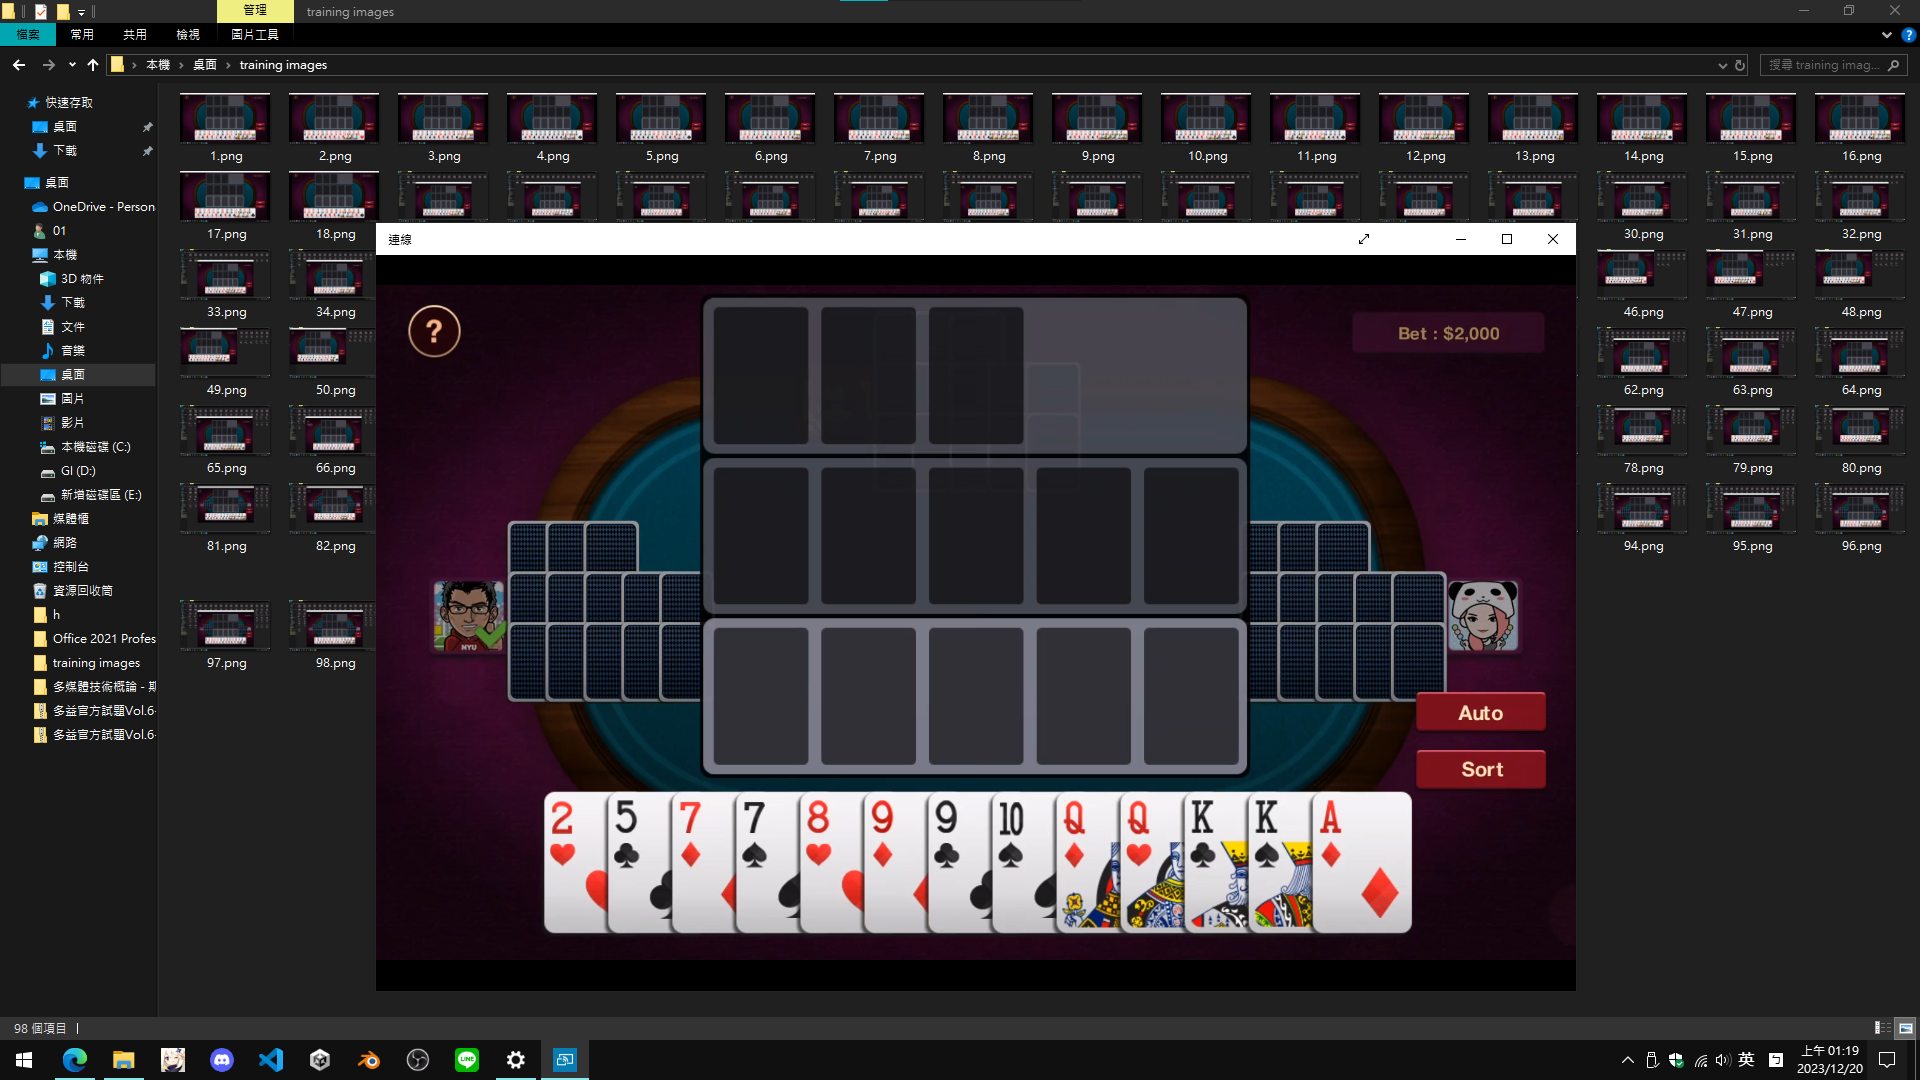10S: (996, 798, 1026, 873)
2H: (549, 796, 579, 869)
5C: (612, 796, 640, 873)
7D: (676, 796, 705, 872)
7S: (741, 796, 770, 876)
8H: (806, 796, 833, 870)
9C: (932, 798, 961, 873)
9D: (869, 796, 895, 873)
AD: (1315, 798, 1344, 869)
KC: (1189, 798, 1218, 876)
KS: (1251, 796, 1283, 870)
QD: (1060, 800, 1089, 870)
QH: (1125, 800, 1155, 869)
